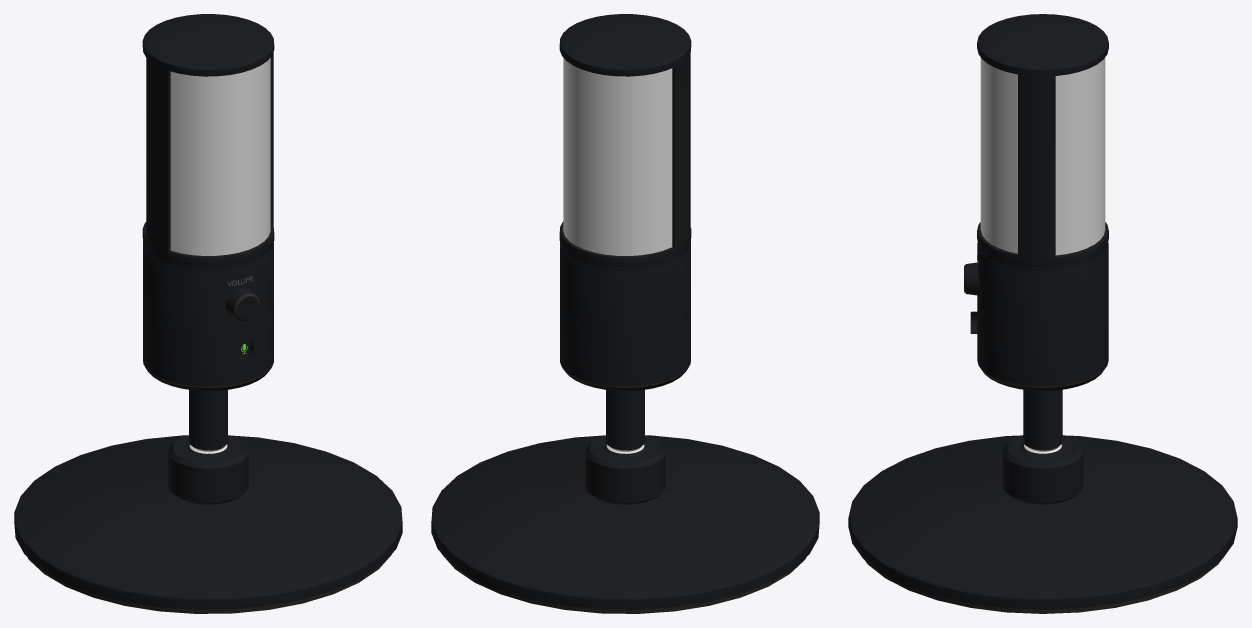
The model's file is mic.glb.
3 renders of one model, left to right at view 1: azimuth 30°, elevation 25°; view 2: azimuth 150°, elevation 25°; view 3: azimuth 270°, elevation 25°, orthographic.
Parts seen in each view (by area): view 1: Circle; view 2: Circle; view 3: Circle.
Part boxes in pixels (box(x1,y1,x2,y2)): Circle: box(14, 14, 402, 613); Circle: box(431, 14, 819, 613); Circle: box(848, 14, 1237, 613).
Bounding box in the file's own units: 3.76 × 5.3 × 3.76.
8 materials, 4 textured.
